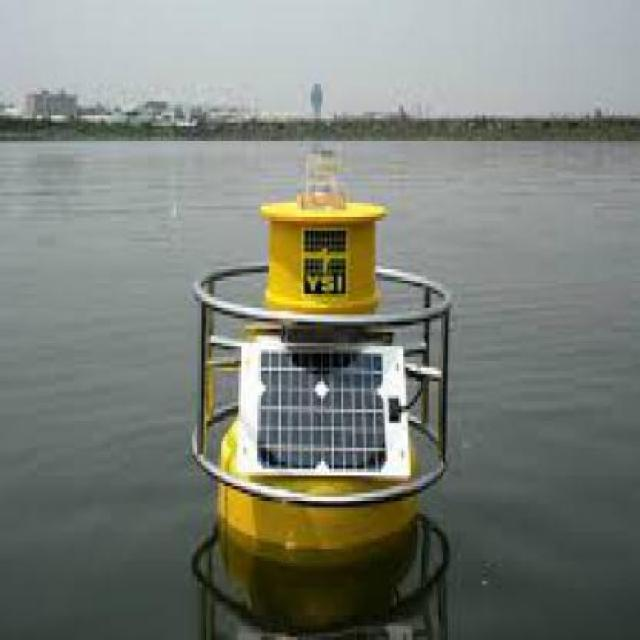buoy: (174, 130, 465, 567)
